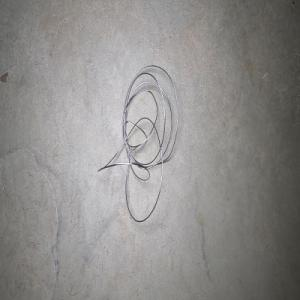Wire: (97, 64, 178, 222)
